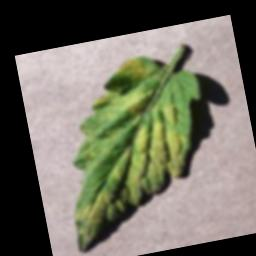Leaf_Mold: (44, 49, 210, 253)
